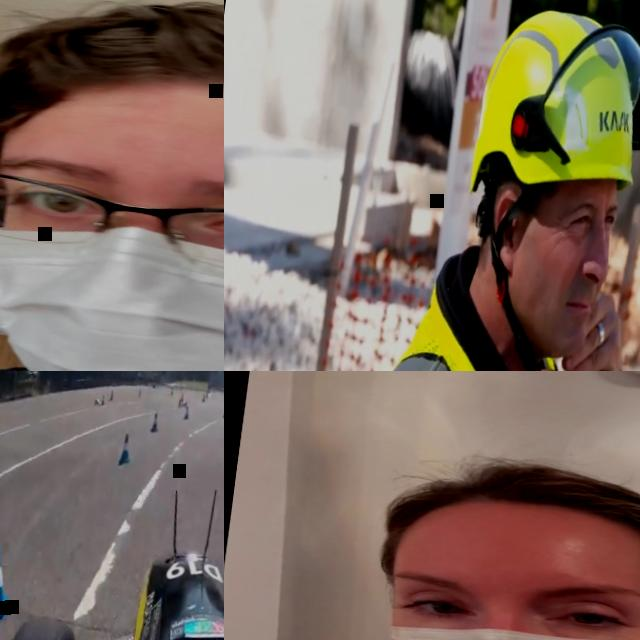Hardhat: (467, 0, 640, 215)
Mask: (0, 216, 224, 371)
NO-Hardhat: (0, 0, 224, 190), (375, 459, 640, 576)
NO-Mask: (510, 226, 614, 366)
Person: (332, 0, 640, 371), (224, 432, 640, 640), (0, 0, 224, 371)
Safety Cone: (0, 535, 15, 624), (116, 432, 135, 462), (148, 408, 159, 442), (183, 406, 190, 420), (100, 394, 106, 409), (180, 399, 188, 408), (94, 397, 101, 405), (221, 402, 224, 419), (137, 388, 142, 398), (178, 396, 182, 408), (170, 386, 174, 396), (202, 393, 206, 402), (206, 392, 208, 398)
Safety Vest: (332, 279, 608, 371)
vehicle: (0, 527, 224, 640)
